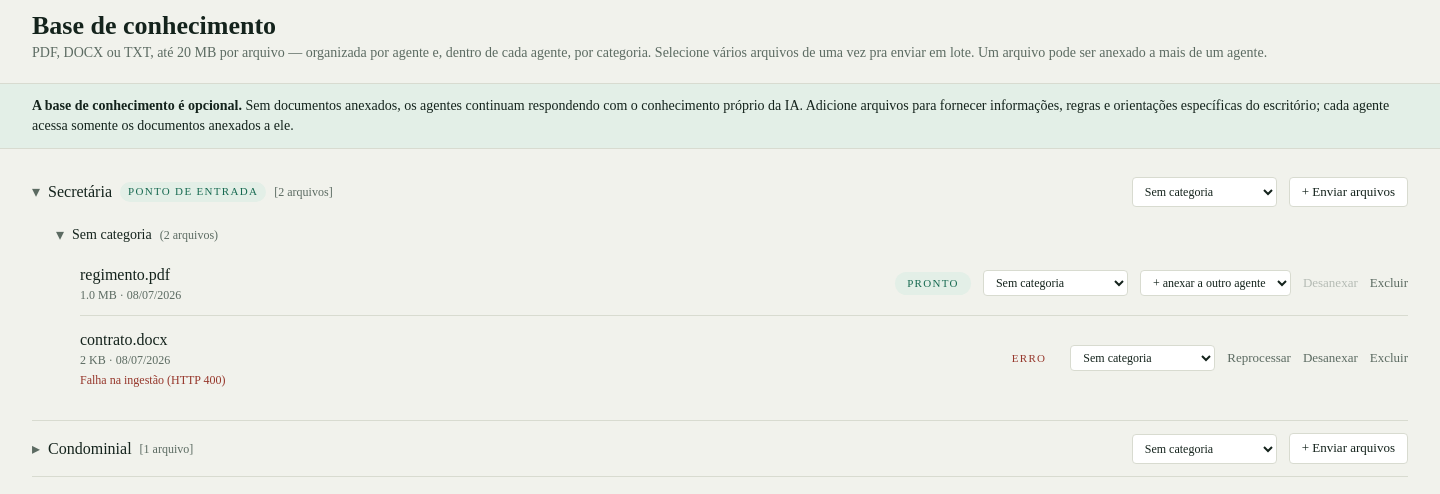
Scenario: KnowledgeBasePanel › reprocessa um arquivo com erro e reflete o novo status
The width and height of the screenshot is (1440, 494).
Expected: the text "contrato.docx" is shown, [80,331,168,348]
Click the button with aria-label "Reprocessar contrato.docx": click(1259, 358) [1227,350,1291,367]
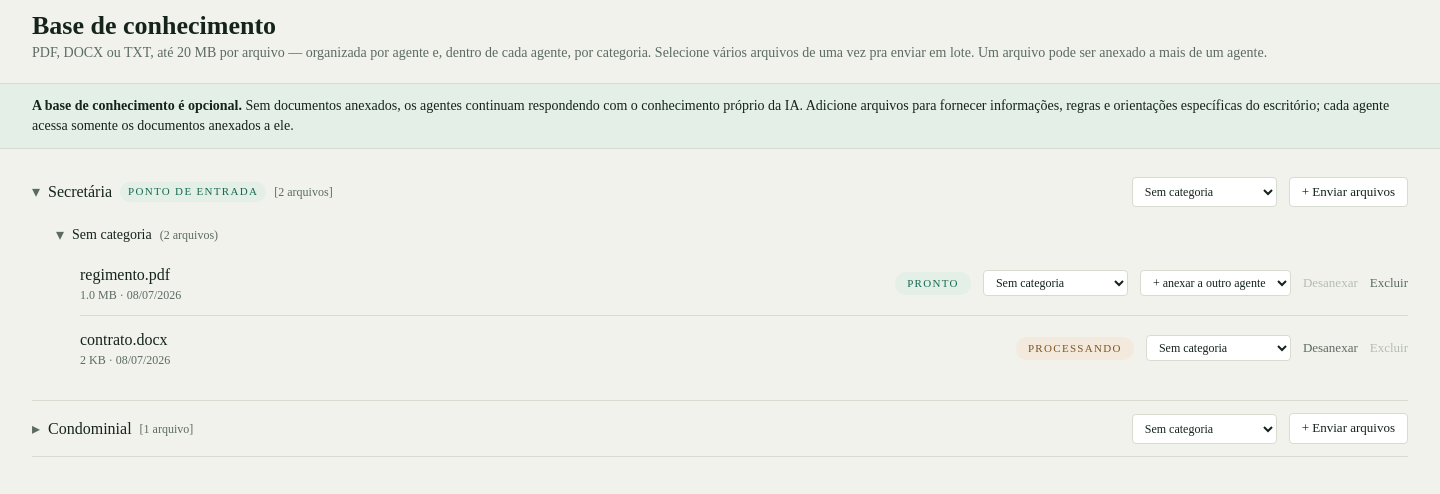
Expected: the text "processando" is shown, [1016,337,1134,360]
